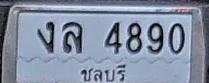0: (168, 22, 185, 54)
4: (104, 22, 122, 54)
8: (126, 22, 142, 53)
9: (147, 22, 163, 54)
A07: (37, 21, 55, 53)
A36: (62, 21, 82, 53)
CBI: (78, 62, 128, 83)
